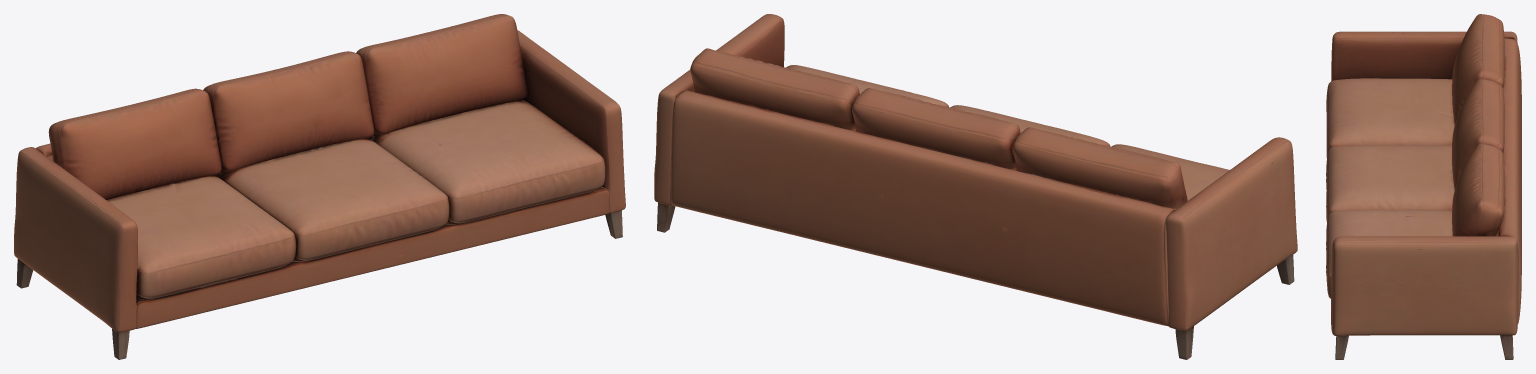
Rendered from alt_sofa_terracotta.glb.
3 views of the same model, side by side, from view 1: azimuth 30°, elevation 25°; view 2: azimuth 150°, elevation 25°; view 3: azimuth 270°, elevation 25° (orthographic). The views are drawn at different scales.
Visible parts, largest first — view 1: node_0; view 2: node_0; view 3: node_0.
Part boxes in pixels (<box>): node_0: <box>14,14,625,359</box>; node_0: <box>654,14,1297,359</box>; node_0: <box>1326,14,1521,359</box>.
Size of the model in its own units: 1.1 by 0.3445 by 0.42.
1 material, 1 textured.
